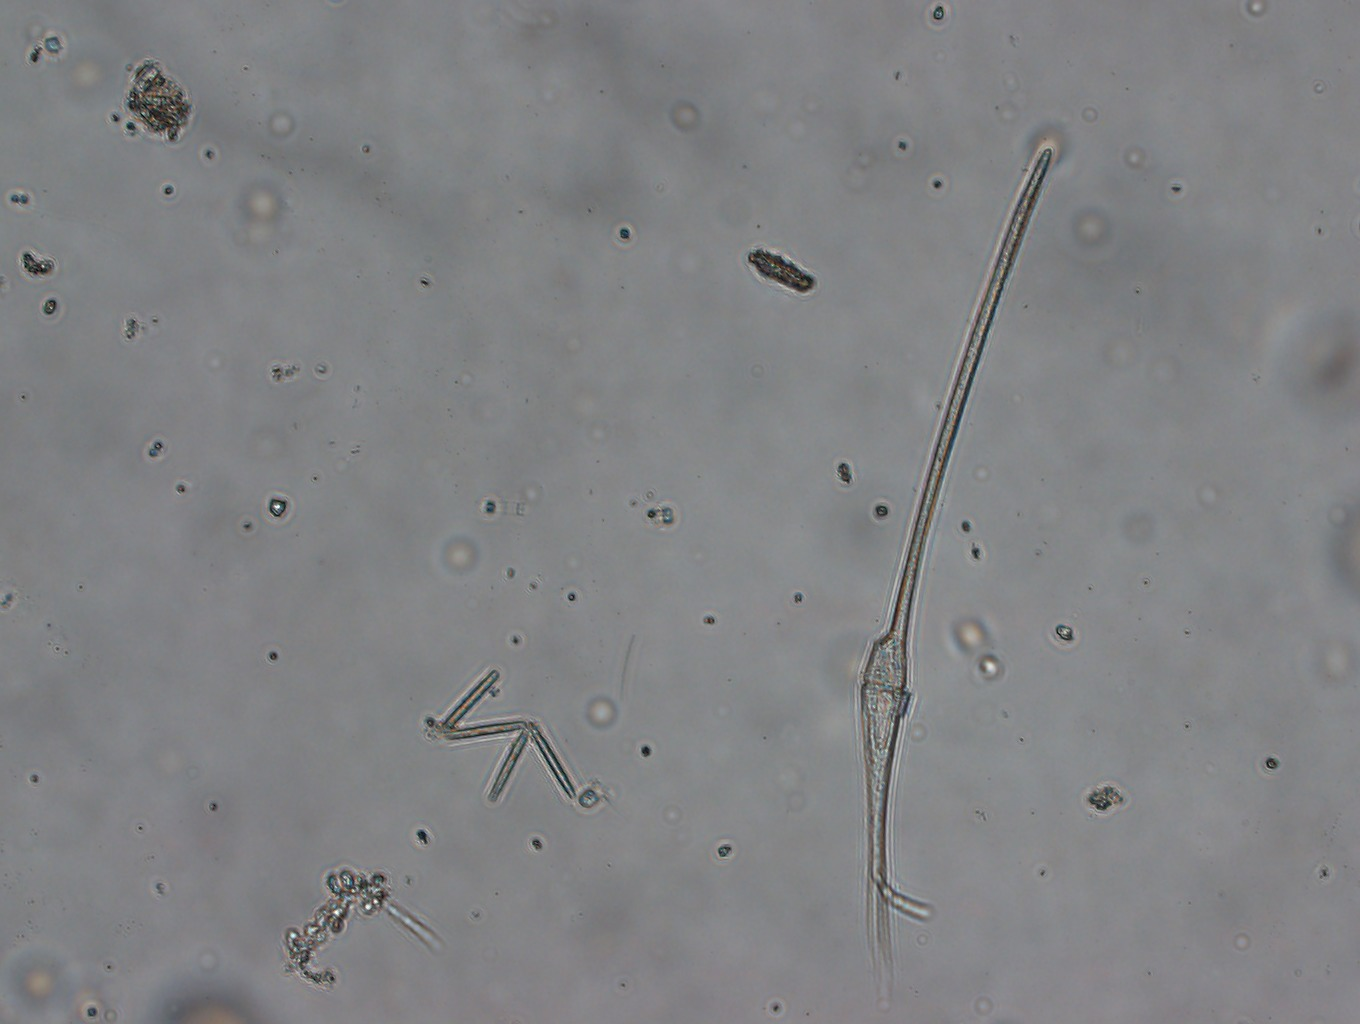ceratium fusus: (844, 132, 1071, 1001)
thalassionema nitzschioides: (421, 666, 584, 807)
